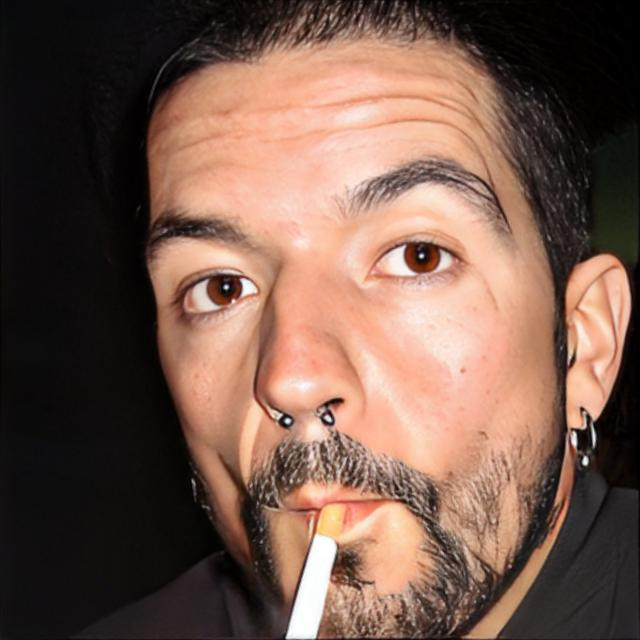surprise: (142, 6, 567, 640)
